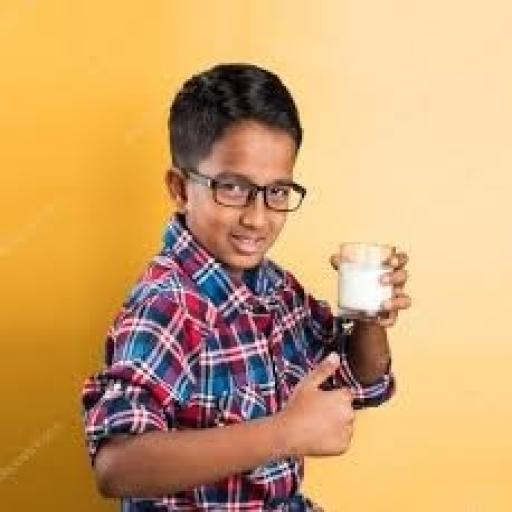drinking: (186, 77, 396, 319)
